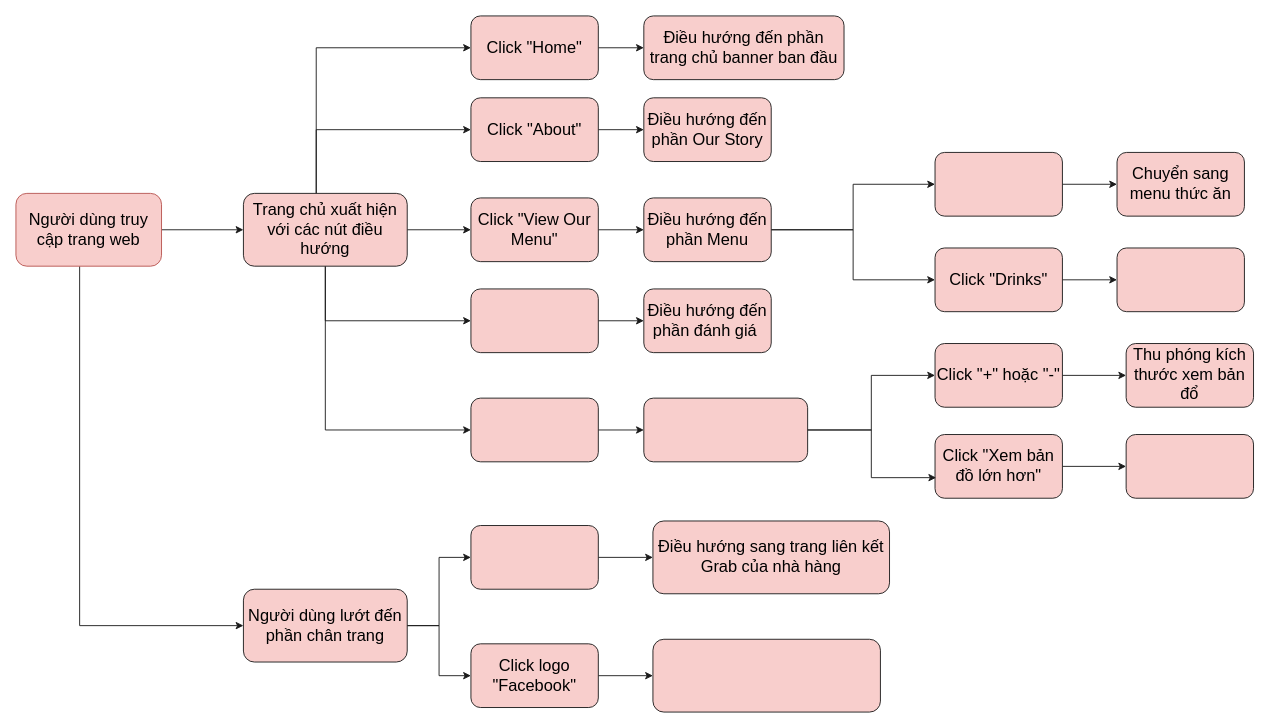
Image size: 1269x728. Some labels were removed from this diagram. Here are the shapes that lost their labels. From the top down, the centre of each, then its label:
the point at 998,184: Click "Foods"
the point at 1180,279: Chuyển sang menu đồ uống
the point at 534,320: Click "Feeback"
the point at 534,429: Click "Location"
the point at 725,429: Điều hướng đến phần bản đồ trực tuyến
the point at 1189,466: Điều hướng sang trang mới Google Maps
the point at 534,557: Click logo "Grab"
the point at 766,675: Điều hướng sang trang liên kết Facebook của nhà hàng
